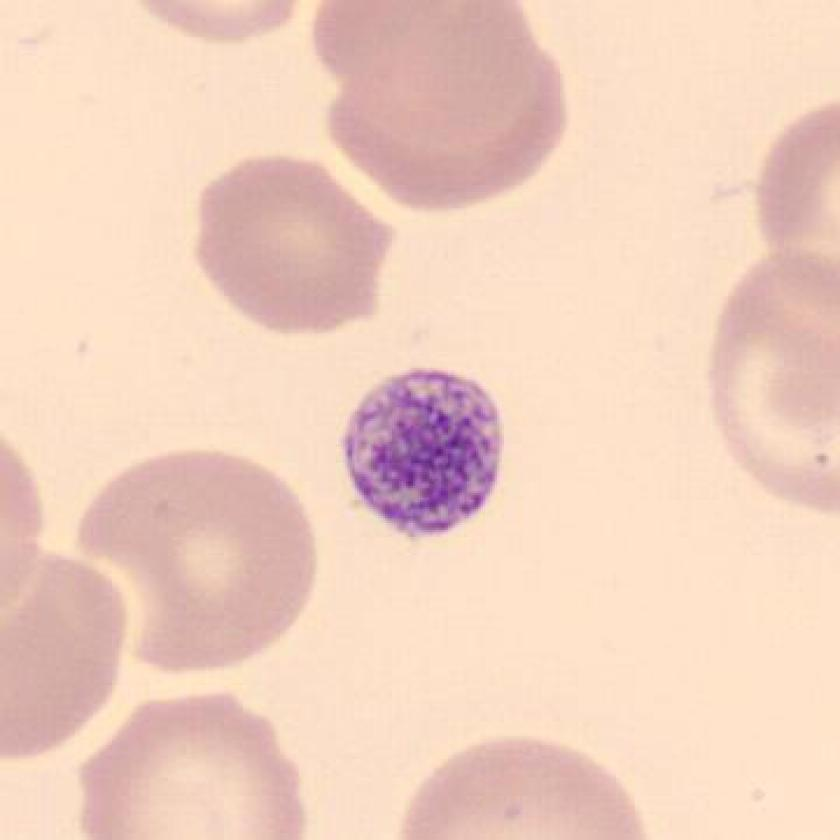platelets: (335, 360, 512, 545)
